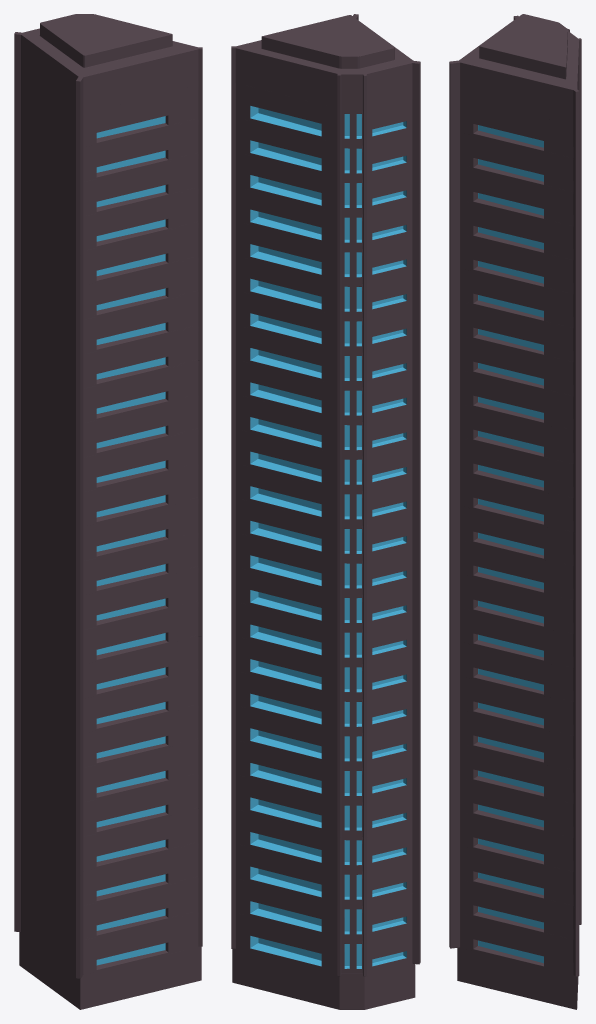
File: buildings14.fbx
3 views of the same model, side by side, from view 1: azimuth 30°, elevation 25°; view 2: azimuth 210°, elevation 25°; view 3: azimuth 330°, elevation 25° (orthographic).
Parts seen in each view (by area): view 1: 10; view 2: 10; view 3: 10.
Part boxes in pixels (x1,y1,x2,y2): 10: (14,14,202,1009); 10: (231,14,420,1009); 10: (449,14,581,1009).
Size of the model in its own units: 4296 by 29966 by 3852.
